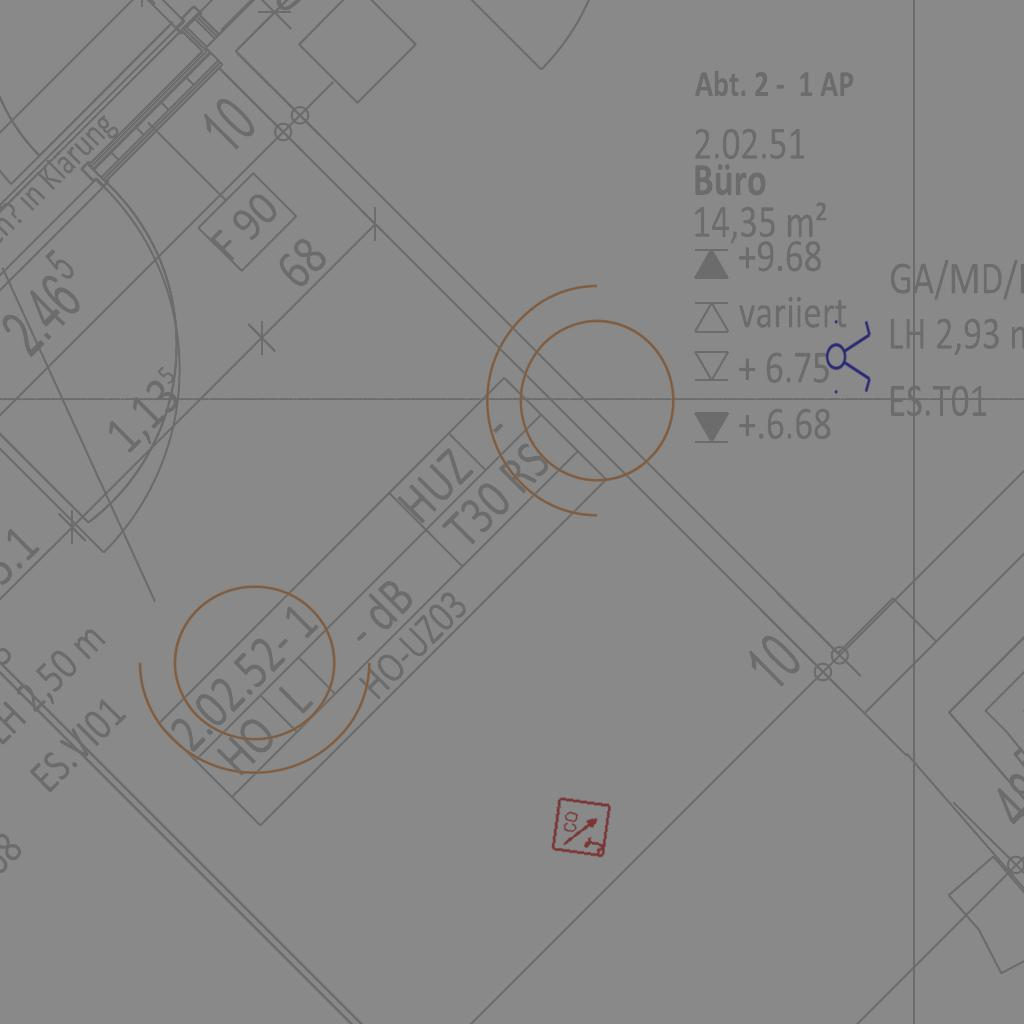ROA_Rauchmelder_optisch_mit_Signalgeber_(Sockelsirene): (550, 795, 614, 859)
Scheinwerfer_fuer_Alarmbeleuchtung: (129, 560, 393, 785), (475, 275, 700, 539)
Serienschalter: (825, 314, 873, 398)
